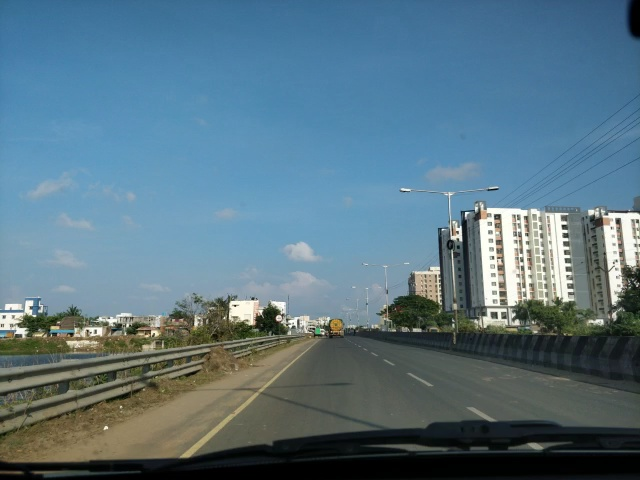truck: (328, 318, 344, 335)
